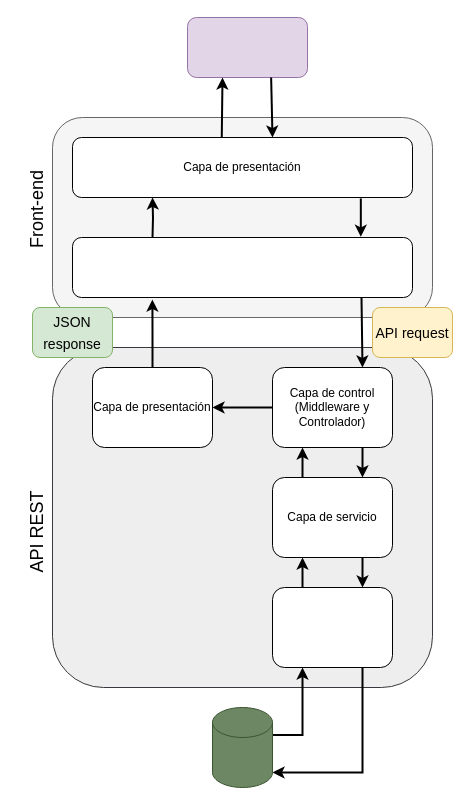
The diagram is 470 pixels wide and 805 high, and some of its shapes have lost their labels. The centre of each missing label's shape, as x and y in pixels:
Capa de acceso a datos: point (332, 627)
Capa de aplicación: point (242, 267)
Usuario: point (247, 47)
